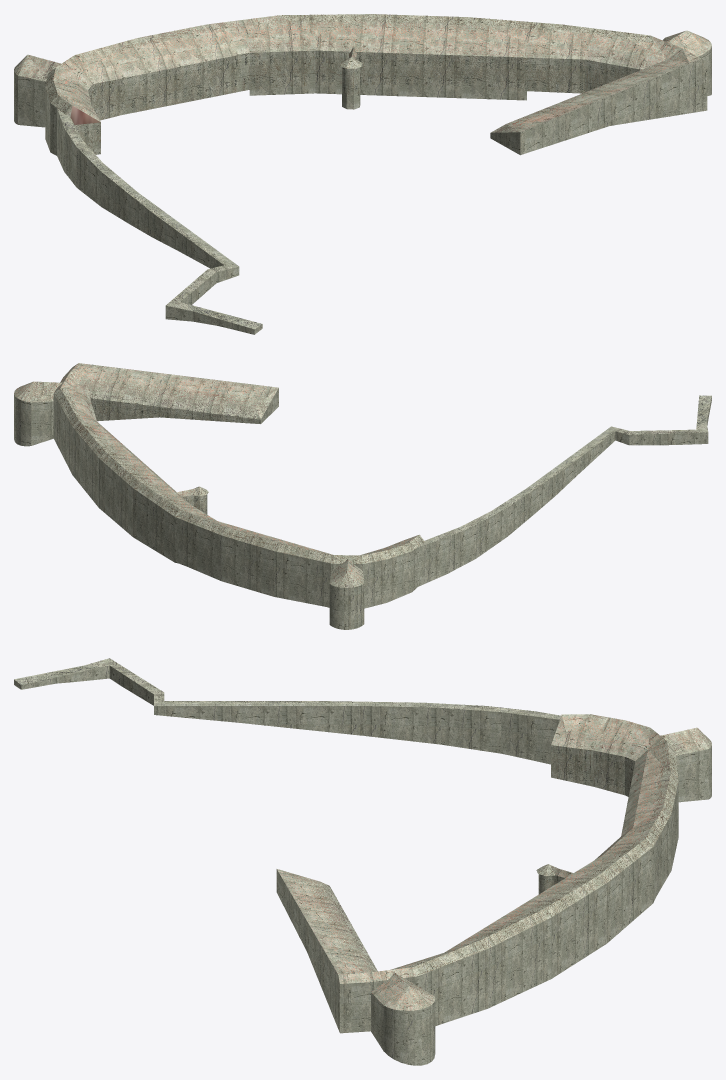
The picture shows the model from 3 angles, top to bottom: view 1: azimuth 30°, elevation 25°; view 2: azimuth 150°, elevation 25°; view 3: azimuth 270°, elevation 25°; orthographic projection. The views are drawn at different scales.
Visible parts, largest first — view 1: Model; view 2: Model; view 3: Model.
Part boxes in pixels (box(x1,y1,x2,y2)): Model: box(14, 14, 711, 334); Model: box(14, 363, 711, 629); Model: box(14, 658, 711, 1065).
Size of the model in its own units: 205 by 176 by 20.29.
16 materials, 16 textured.
